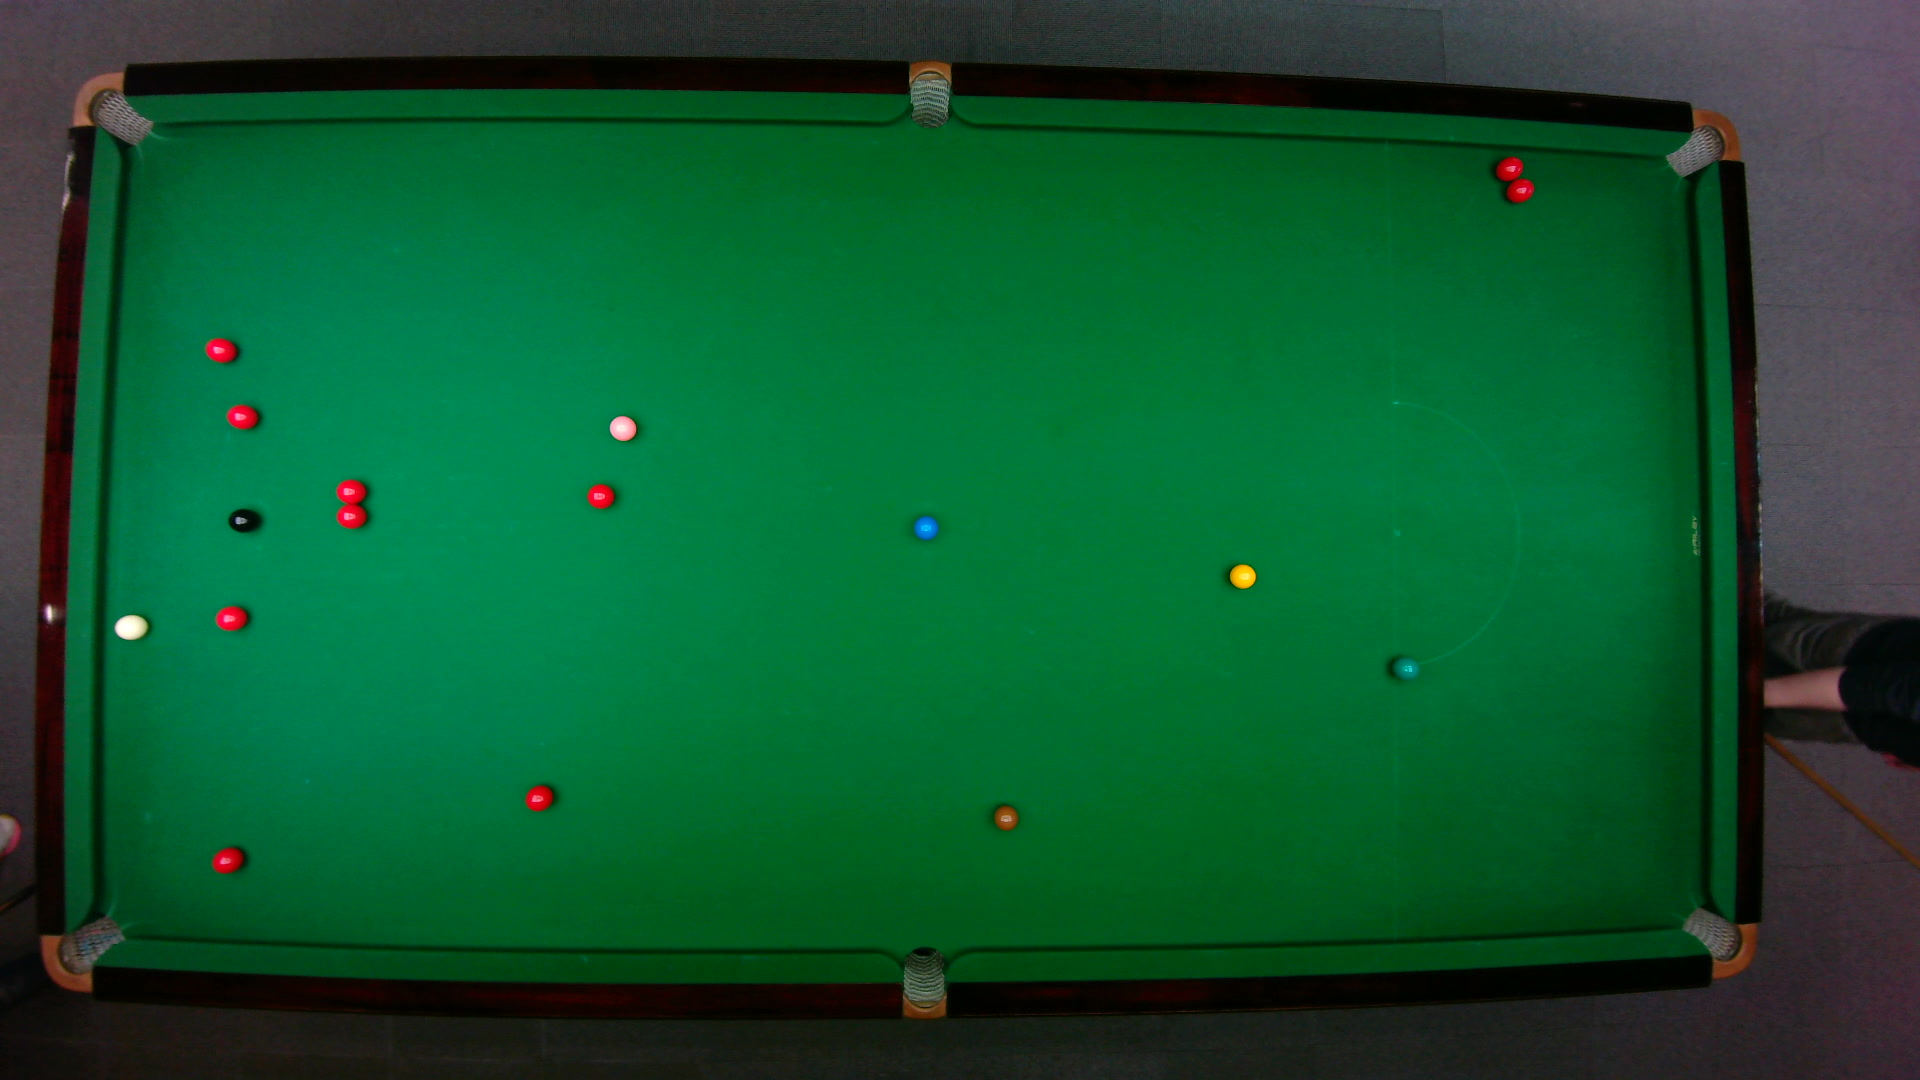bag: (40, 914, 128, 993), (71, 71, 156, 146), (1680, 906, 1759, 981), (1664, 108, 1741, 179), (902, 945, 945, 1021), (909, 59, 952, 129)
black: (225, 506, 260, 534)
blue: (911, 514, 940, 542)
brown: (992, 804, 1021, 832)
green: (1390, 655, 1420, 680)
pink: (607, 414, 638, 442)
red: (210, 845, 245, 876), (203, 336, 239, 365), (224, 402, 260, 431), (214, 604, 251, 632), (524, 783, 555, 814), (335, 477, 368, 505), (1493, 156, 1524, 183), (1505, 177, 1536, 204), (585, 483, 616, 510), (335, 505, 368, 530)
white: (111, 612, 152, 642)
yellow: (1226, 562, 1258, 591)
zone: (1391, 401, 1519, 667)
